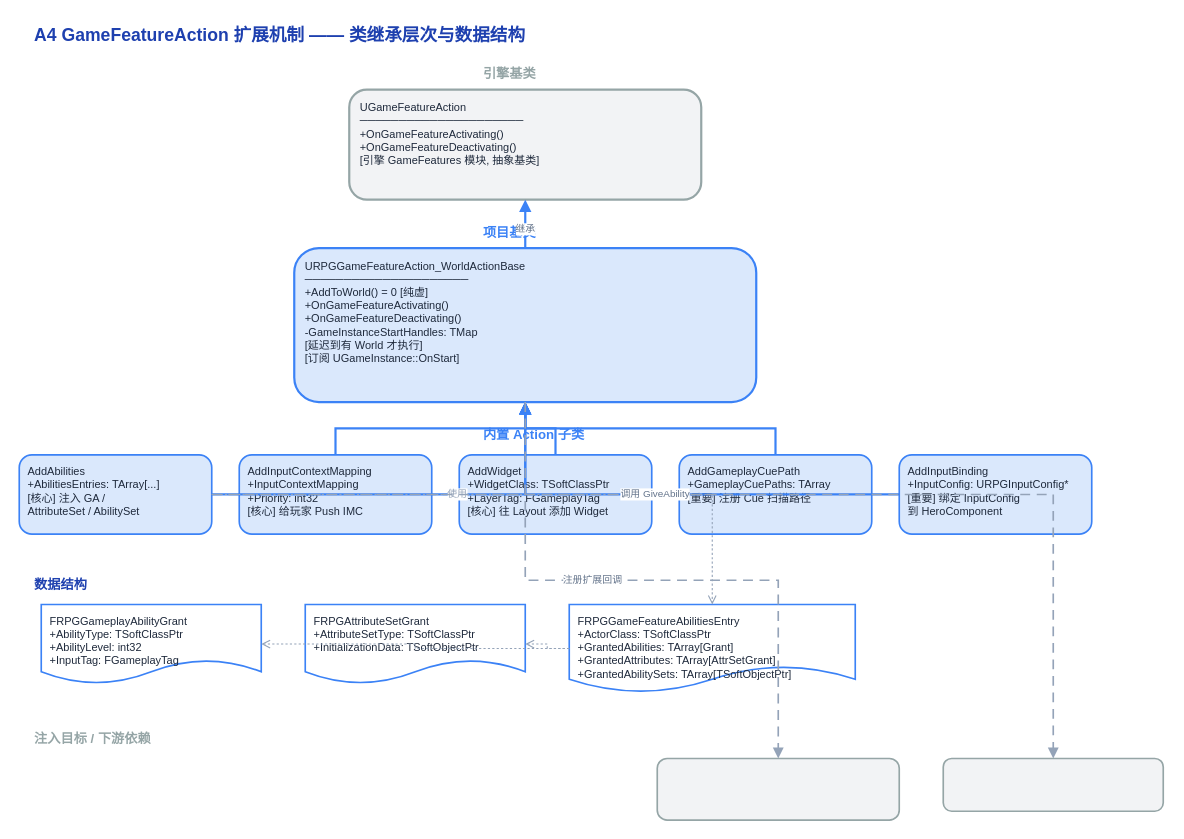
Image size: 1184x839. Some labels were removed from this diagram. Each missing label, with the centre of its shape:
UAbilitySystemComponent GiveAbility() / GiveAbilitySet(): (1053,784)
UGameFrameworkComponentManager AddExtensionHandler() SendExtensionEvent(): (778,788)
